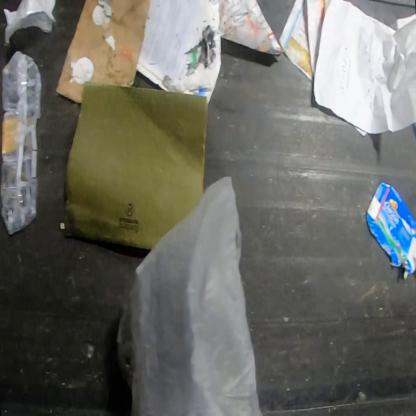cardboard: (63, 81, 208, 252), (56, 1, 150, 105), (365, 183, 415, 280)
rigid_plastic: (1, 50, 42, 238)
soft_plastic: (115, 177, 262, 416)
